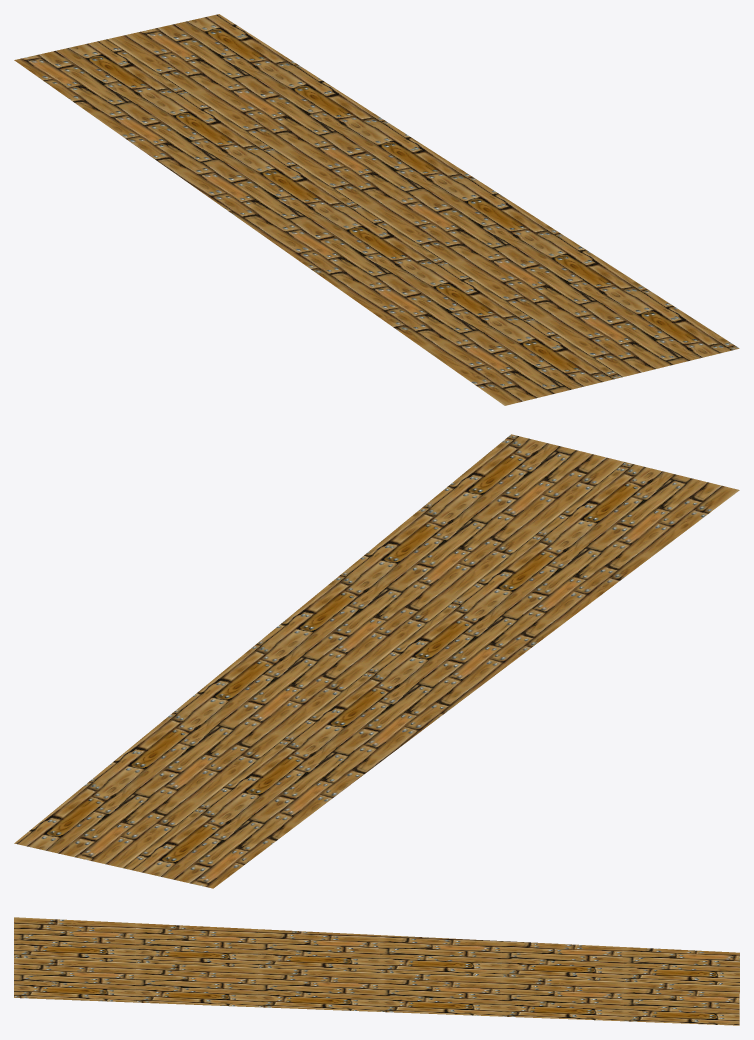
File: Schiff_Sidewalk2_1272.glb
The picture shows the model from 3 angles, top to bottom: view 1: azimuth 30°, elevation 25°; view 2: azimuth 150°, elevation 25°; view 3: azimuth 270°, elevation 25°; orthographic projection. The views are drawn at different scales.
Visible parts, largest first — view 1: ship_sidewalk_rechtsShape; view 2: ship_sidewalk_rechtsShape; view 3: ship_sidewalk_rechtsShape.
Part boxes in pixels (bbox=[...]): ship_sidewalk_rechtsShape: bbox=[14, 14, 739, 405]; ship_sidewalk_rechtsShape: bbox=[14, 434, 739, 888]; ship_sidewalk_rechtsShape: bbox=[14, 917, 739, 1025].
Bounding box in the file's own units: 0.5 × 0.0851 × 1.9.
Materials: 1 (1 with a texture image).
